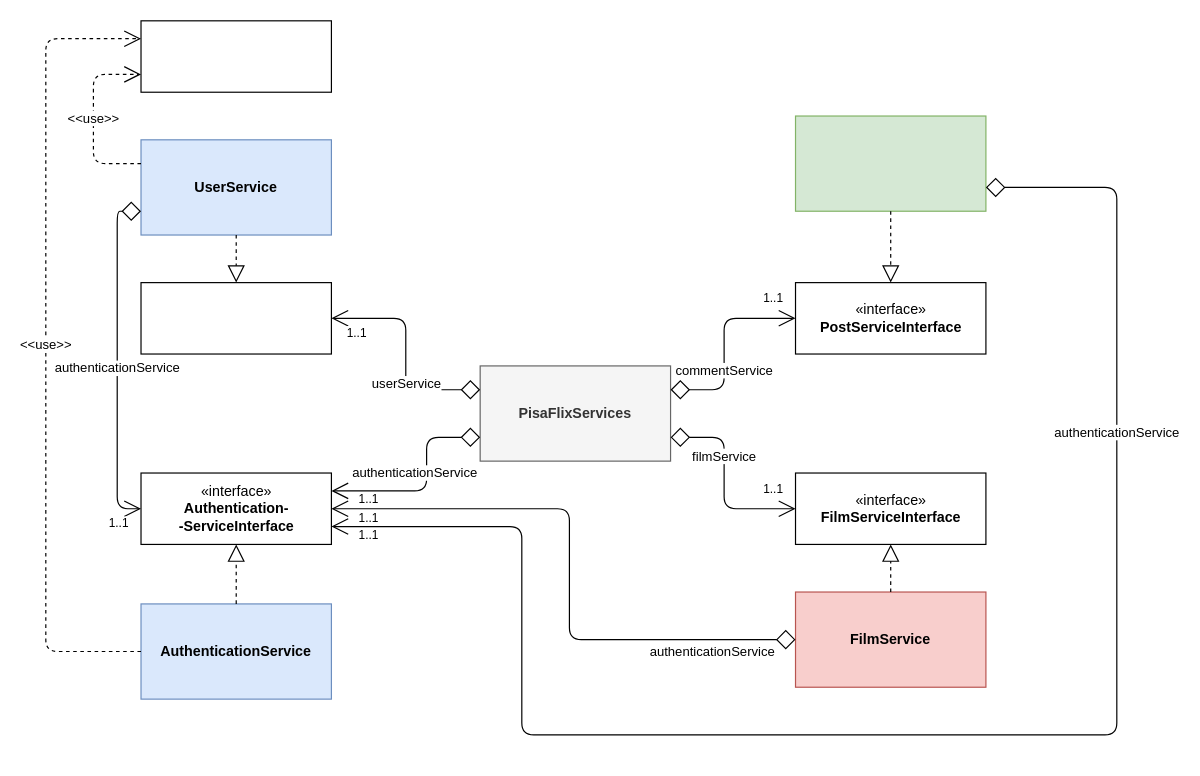
Image size: 1200x776. Some labels were removed from this diagram. Here are the shapes that lost their labels. From the top down, the centre of each, then its label:
At (x=235, y=56): "«enumeration» UserPrivileges".
At (x=890, y=163): "PostService".
At (x=235, y=317): "«interface» UserServiceInterface".
